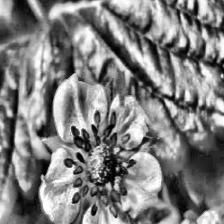Blossom Blight: (63, 108, 140, 219)
